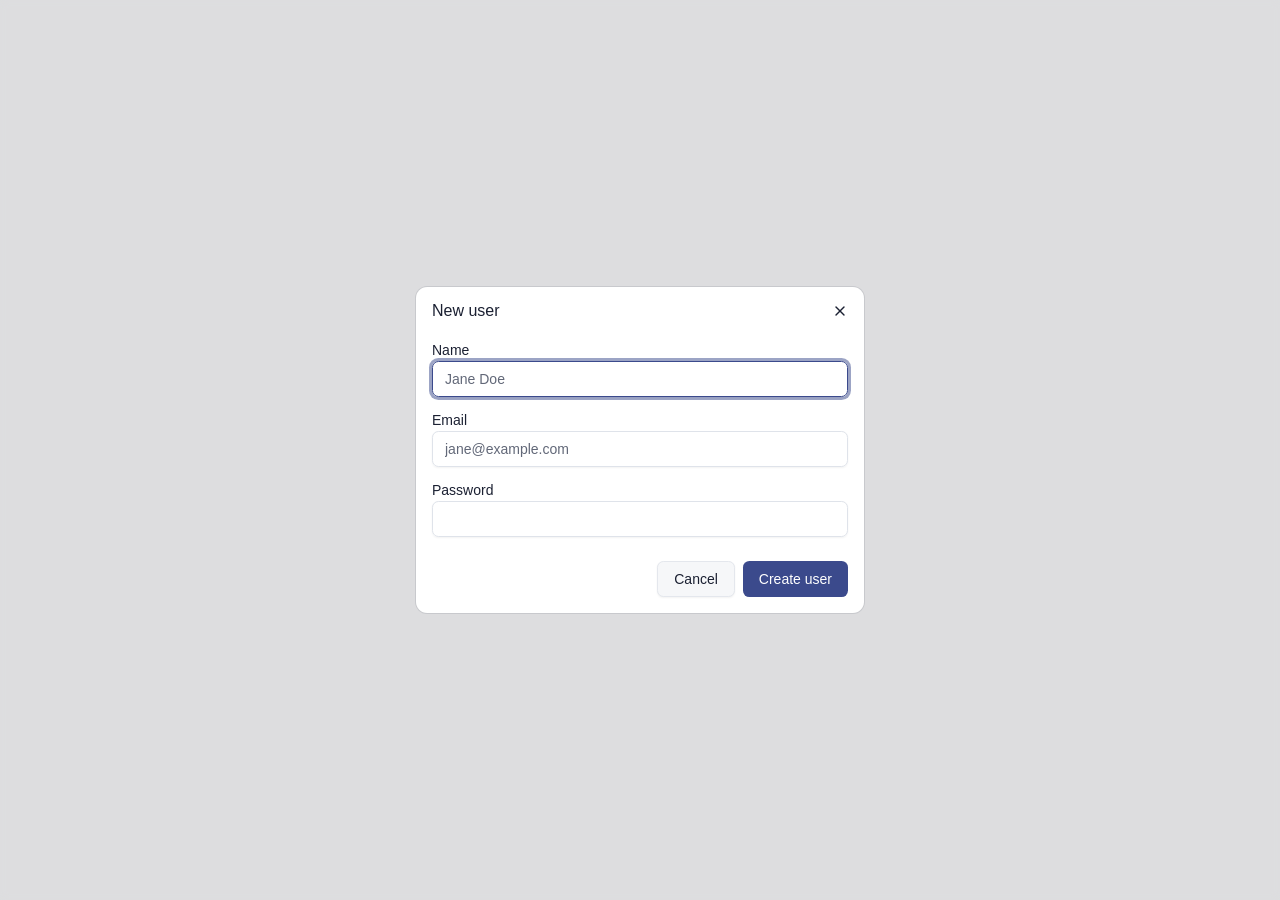
it: CreateUserModal › validation › shows name error when name is shorter than 3 chars
This screenshot has width=1280, height=900.
Type "Ab" into the field labelled "Name" at (640, 379), box [432,361,848,397]
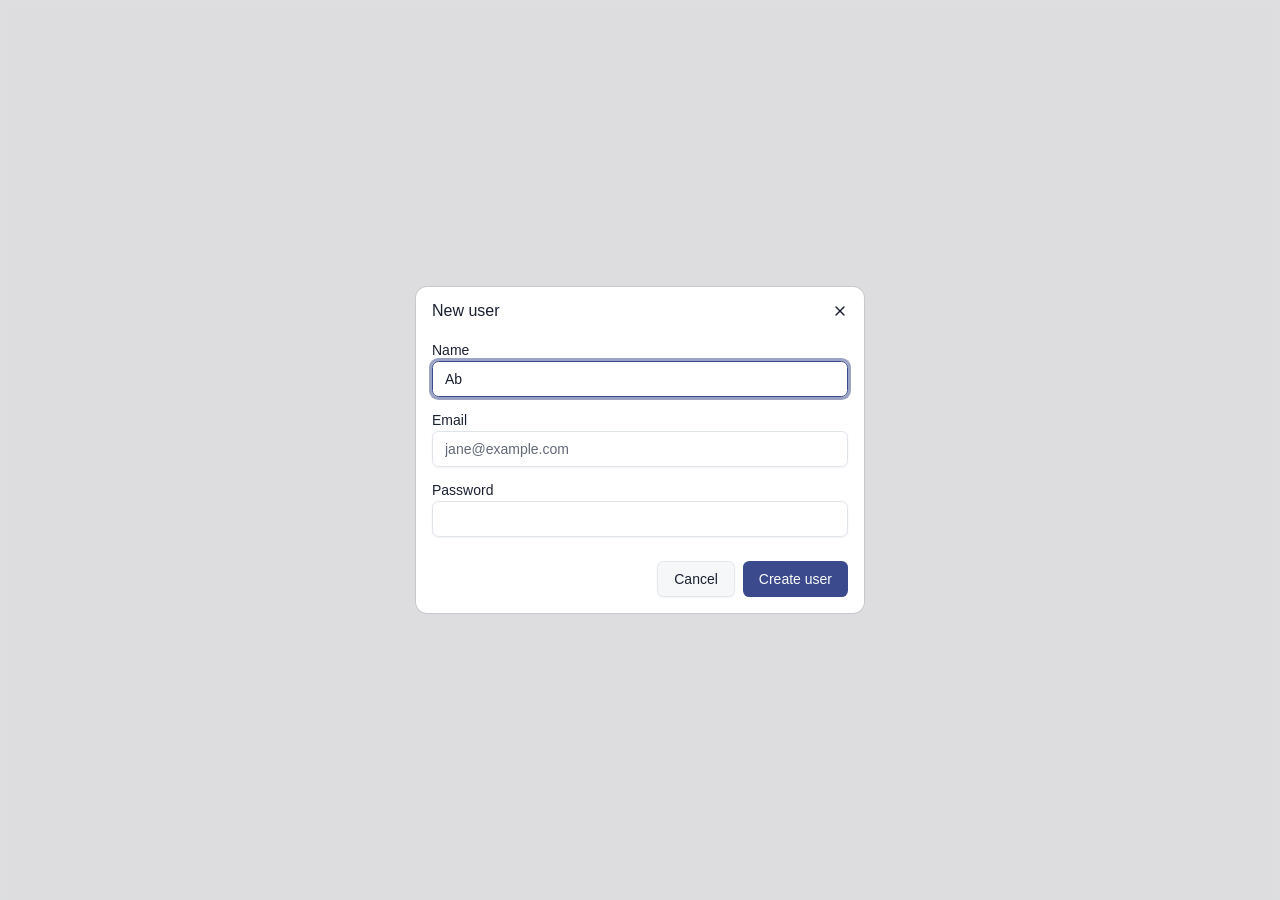
Type "valid@example.com" into the field labelled "Email" at (640, 449), box [432,431,848,467]
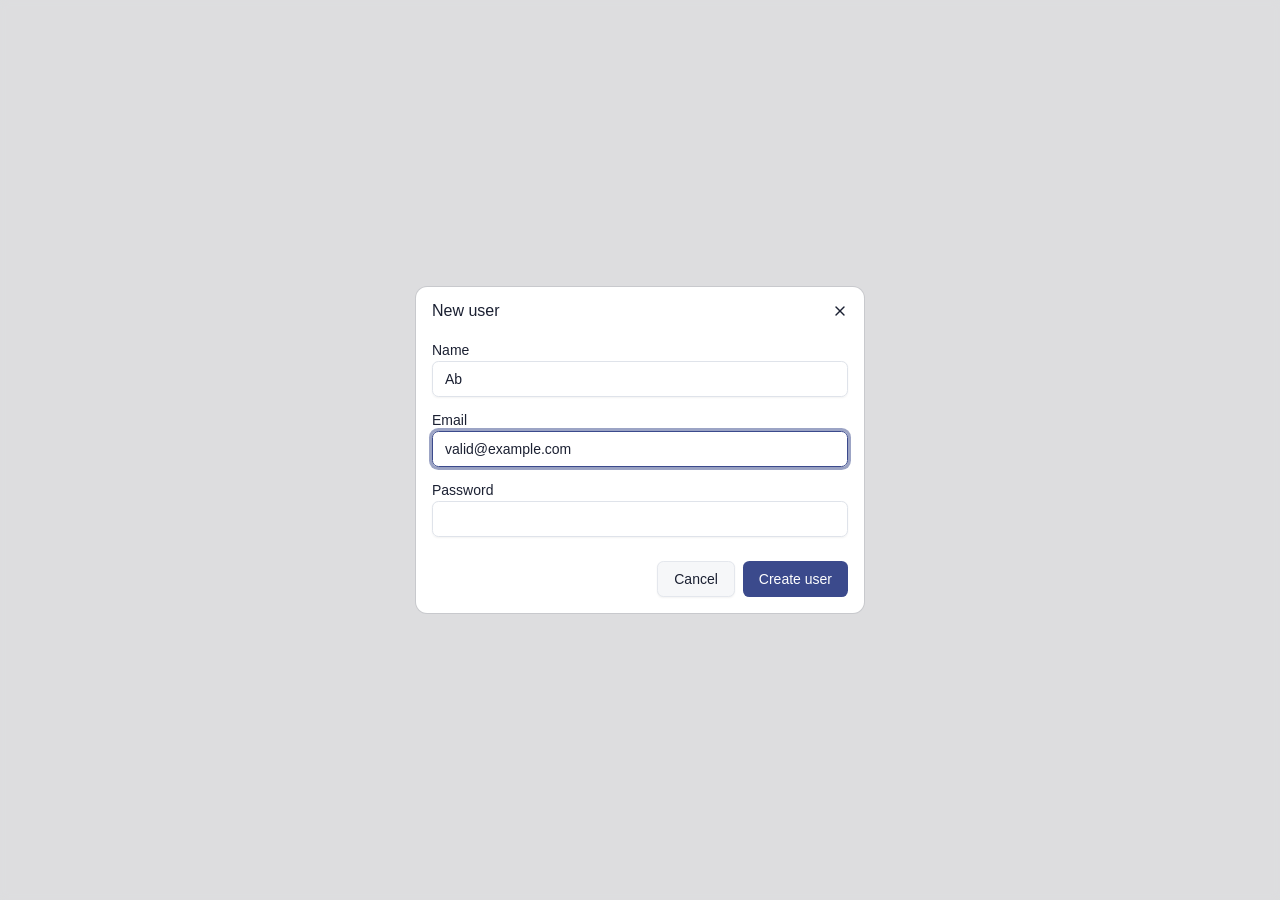
Type "validpassword" into the password field labelled "Password" at (640, 519), box [432,501,848,537]
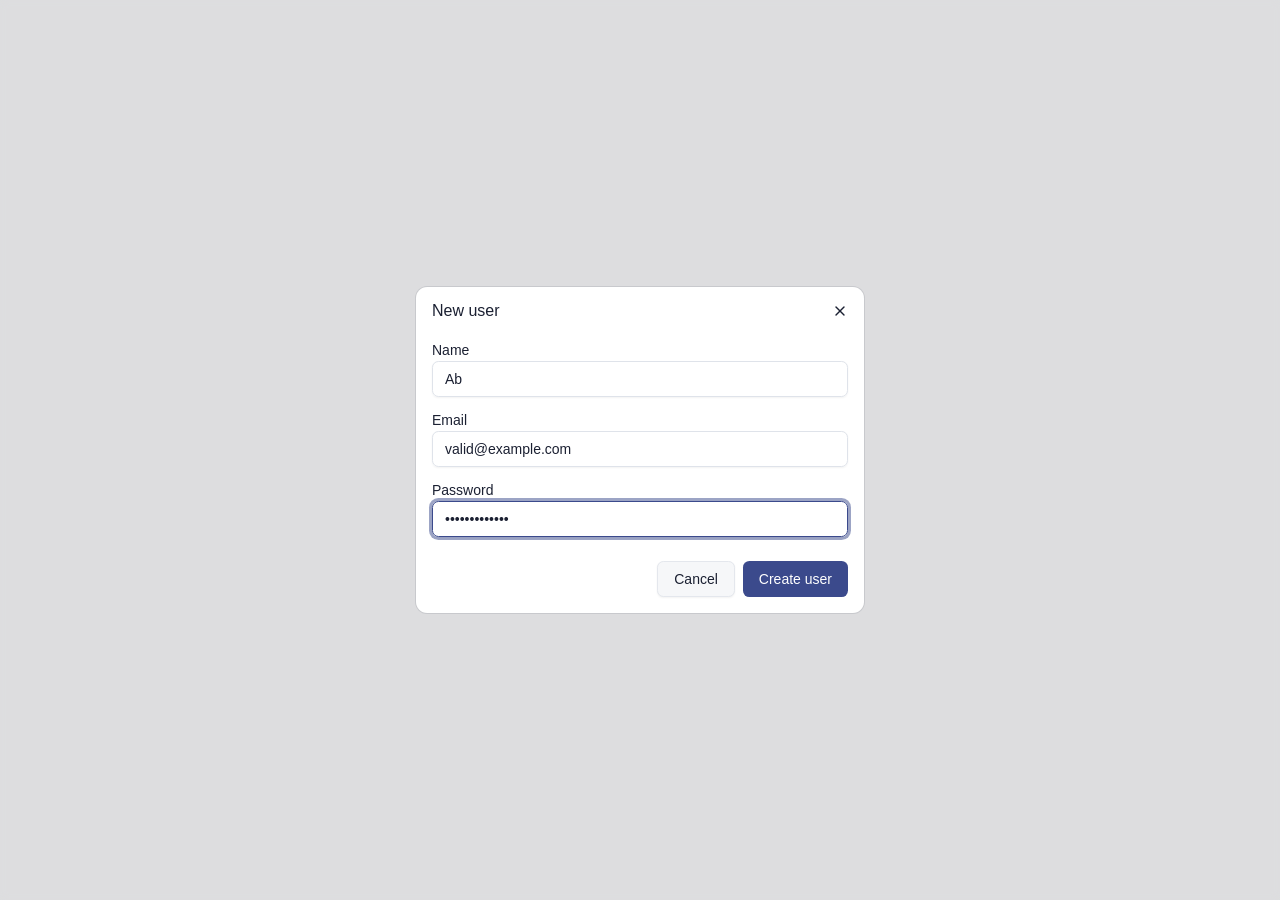
Click the button "Create user" at (795, 579), box [743,561,848,597]
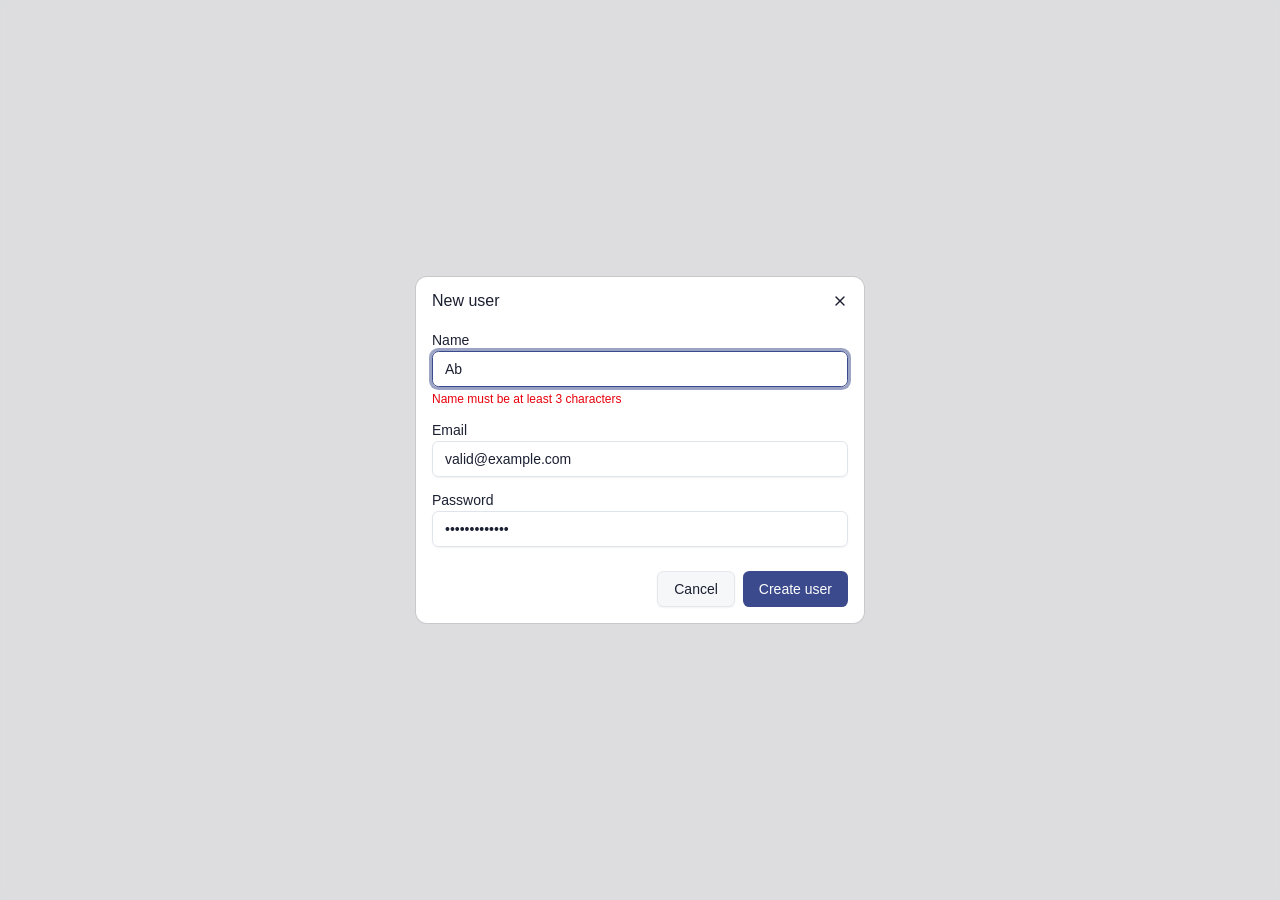
Now the text "Name must be at least 3 characters" is shown, box [432,392,621,406]
